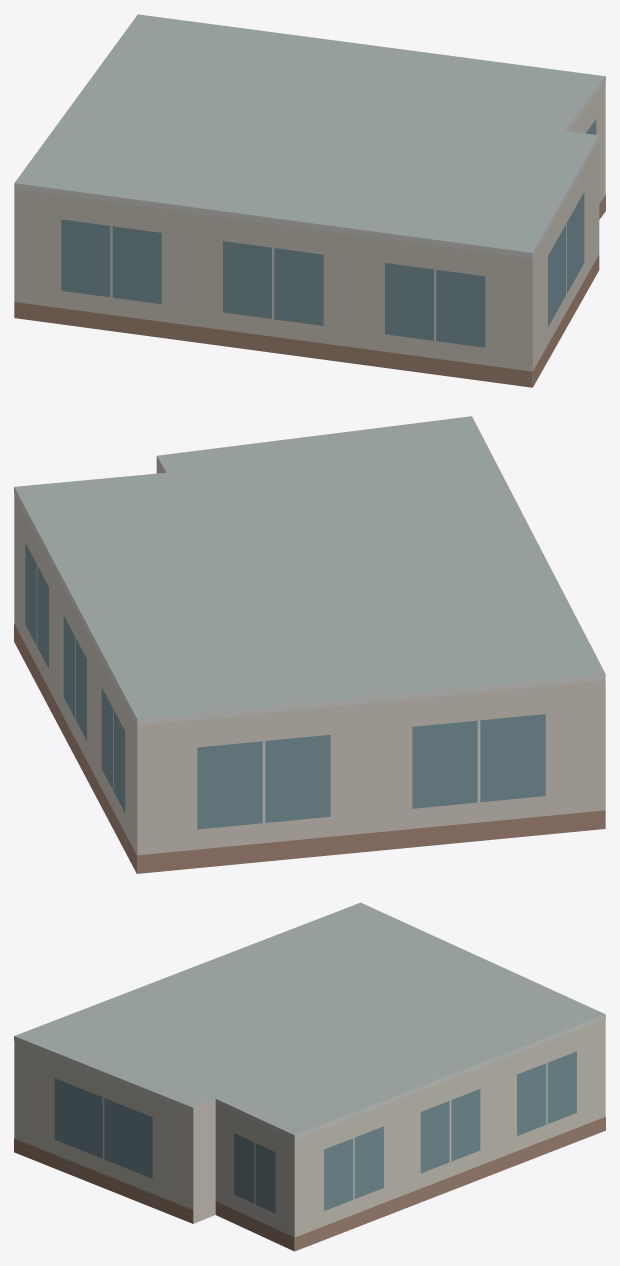
File: survey-upis-32794246.glb
The picture shows the model from 3 angles, top to bottom: view 1: azimuth 30°, elevation 25°; view 2: azimuth 150°, elevation 25°; view 3: azimuth 270°, elevation 25°; orthographic projection. The views are drawn at different scales.
Parts seen in each view (by area): view 1: survey-upis-32794246.tmp; view 2: survey-upis-32794246.tmp; view 3: survey-upis-32794246.tmp.
Part boxes in pixels (x1=…): survey-upis-32794246.tmp: x1=14, y1=14, x2=605, y2=387; survey-upis-32794246.tmp: x1=14, y1=416, x2=605, y2=873; survey-upis-32794246.tmp: x1=14, y1=902, x2=605, y2=1251.
Size of the model in its own units: 13.11 by 3.05 by 14.09.
